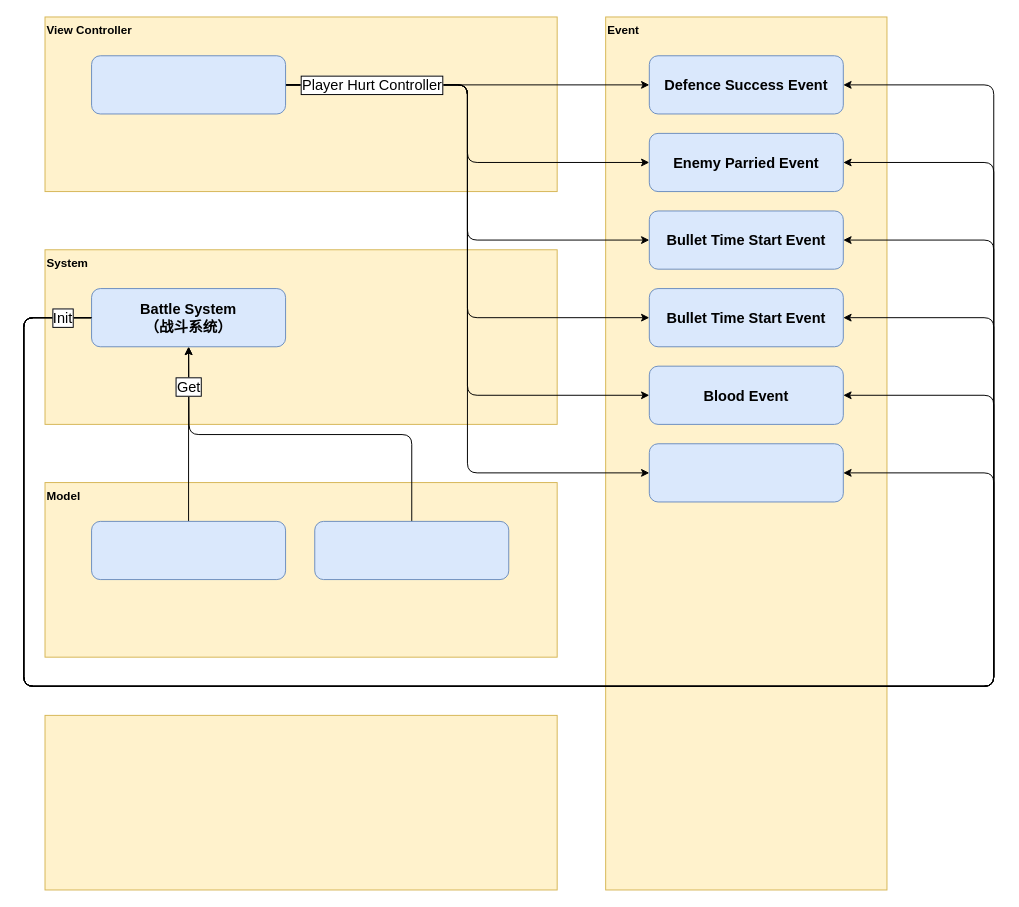
The diagram is 1019 pixels wide and 907 high, and some of its shapes have lost their labels. The centre of each missing label's shape, as x and y in pixels:
Enemy Model （存储敌人数据）: pixel 411 550
Enemy Weapon Controller （敌人武器控制器）: pixel 188 84
Player Controlled Event: pixel 745 472
Player Model （存储玩家数据）: pixel 188 550
Utility: pixel 300 802
